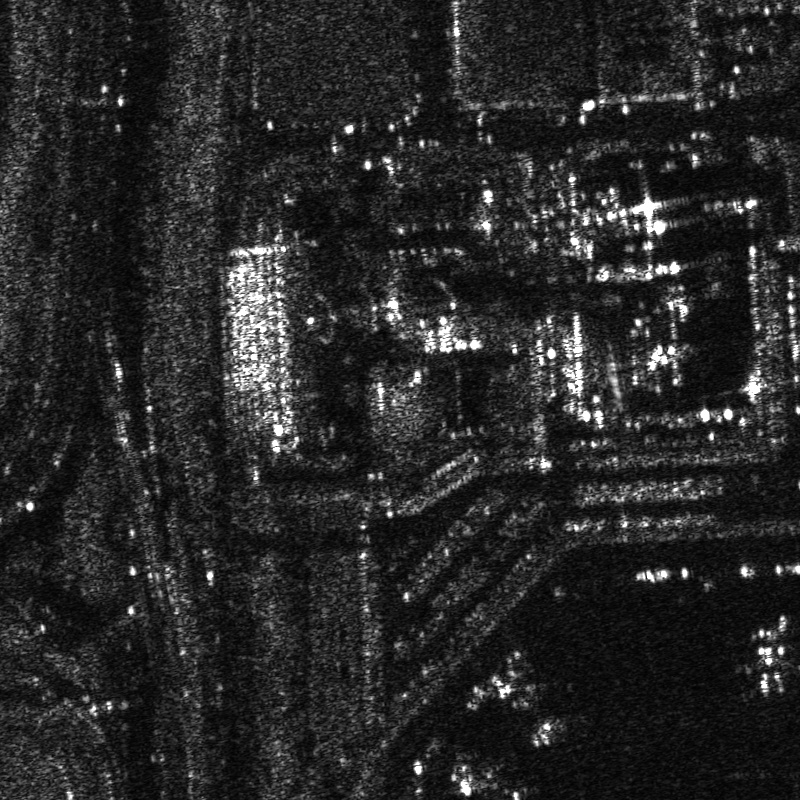A220: (441, 746, 550, 799)
Boeing737: (725, 607, 799, 705)
